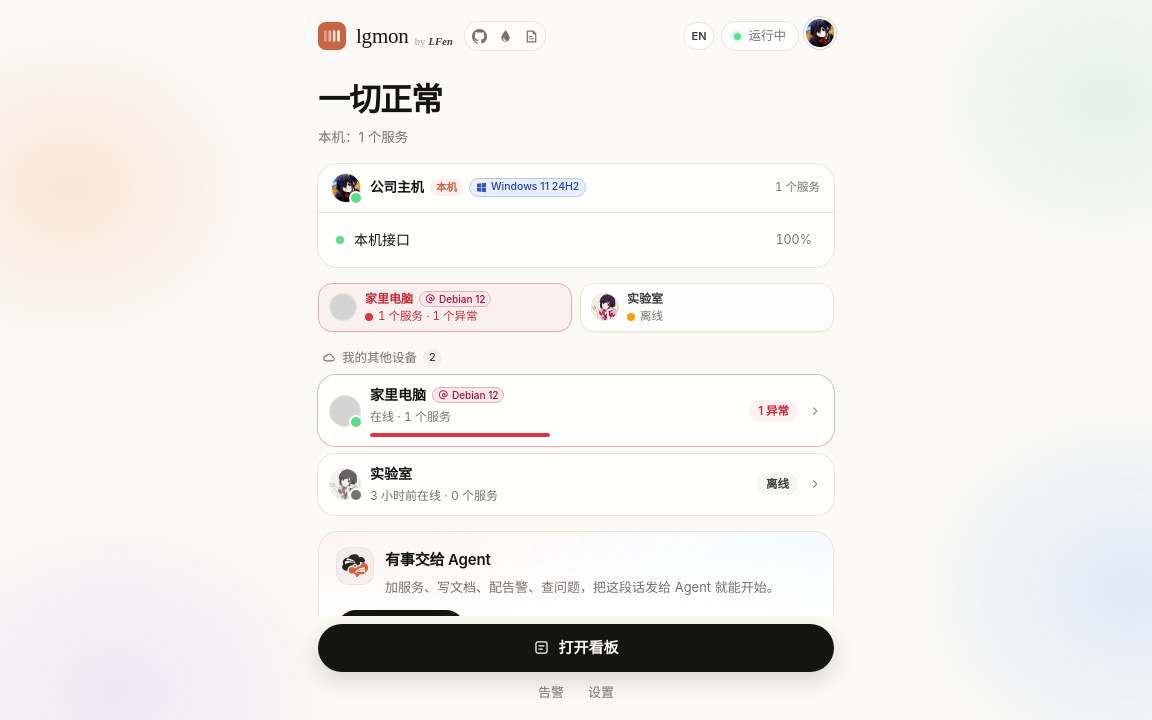
lists the account’s other devices in the start window, with a summary chip beside the headline
The width and height of the screenshot is (1152, 720).
Check: the link "家庭服务" is not shown
Click the button with aria-label "展开或收起 家里电脑 的面板": [398, 395] box 318,375 -> 834,446
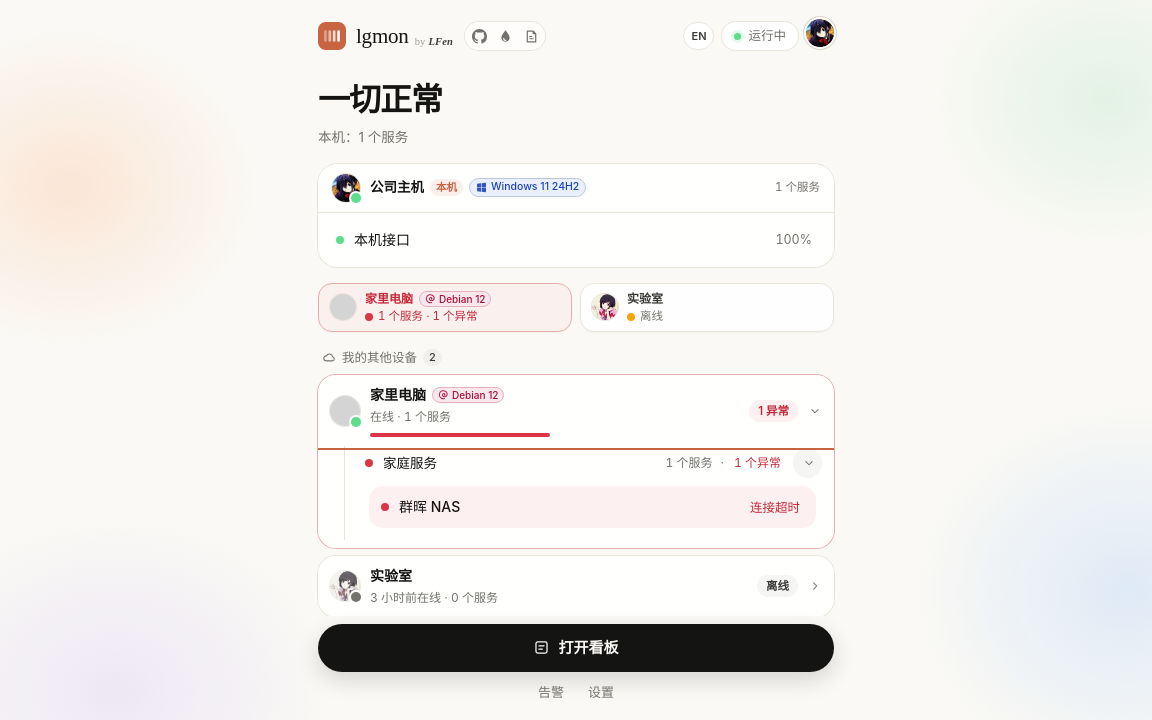
Check: the button with aria-label "展开或收起 实验室 的面板" shows "离线", box 318,556 -> 834,616
Check: the button with aria-label "展开或收起 实验室 的面板" shows "3 小时前在线", box 318,556 -> 834,616
# The account menu says which email this computer is signed in with.
Click the button named "我的账户：": [820, 33] box 806,19 -> 834,47
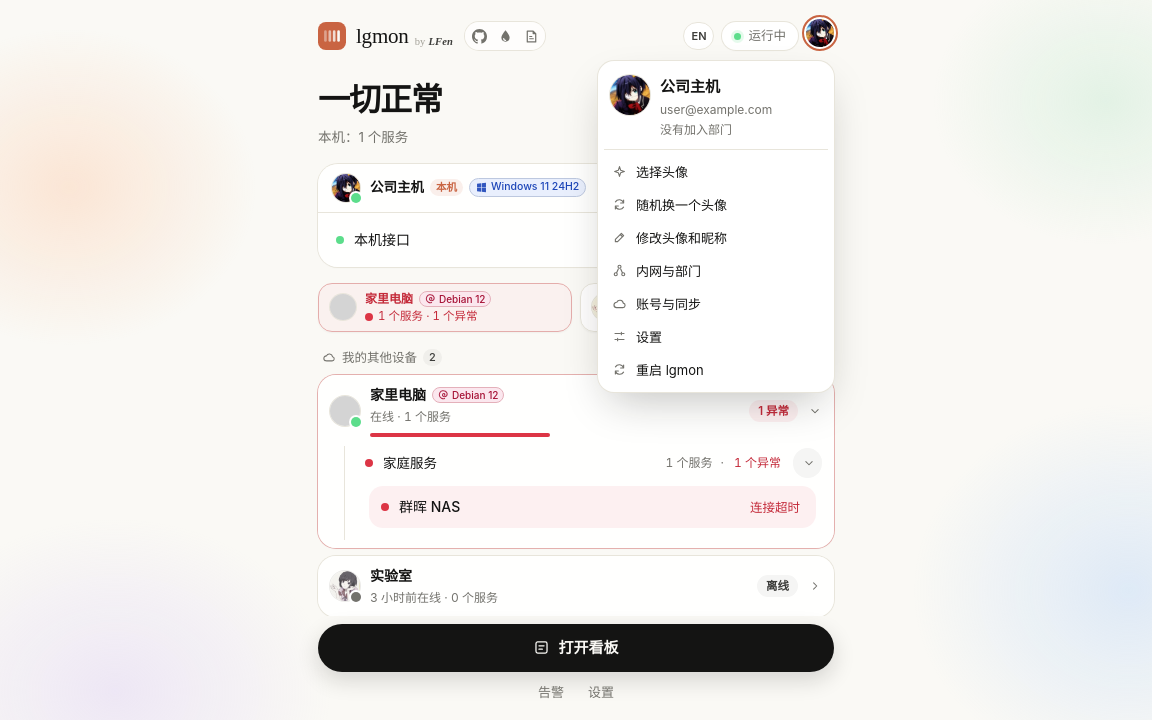
Check: the text "user@example.com" is shown, box 660,102 -> 772,117
